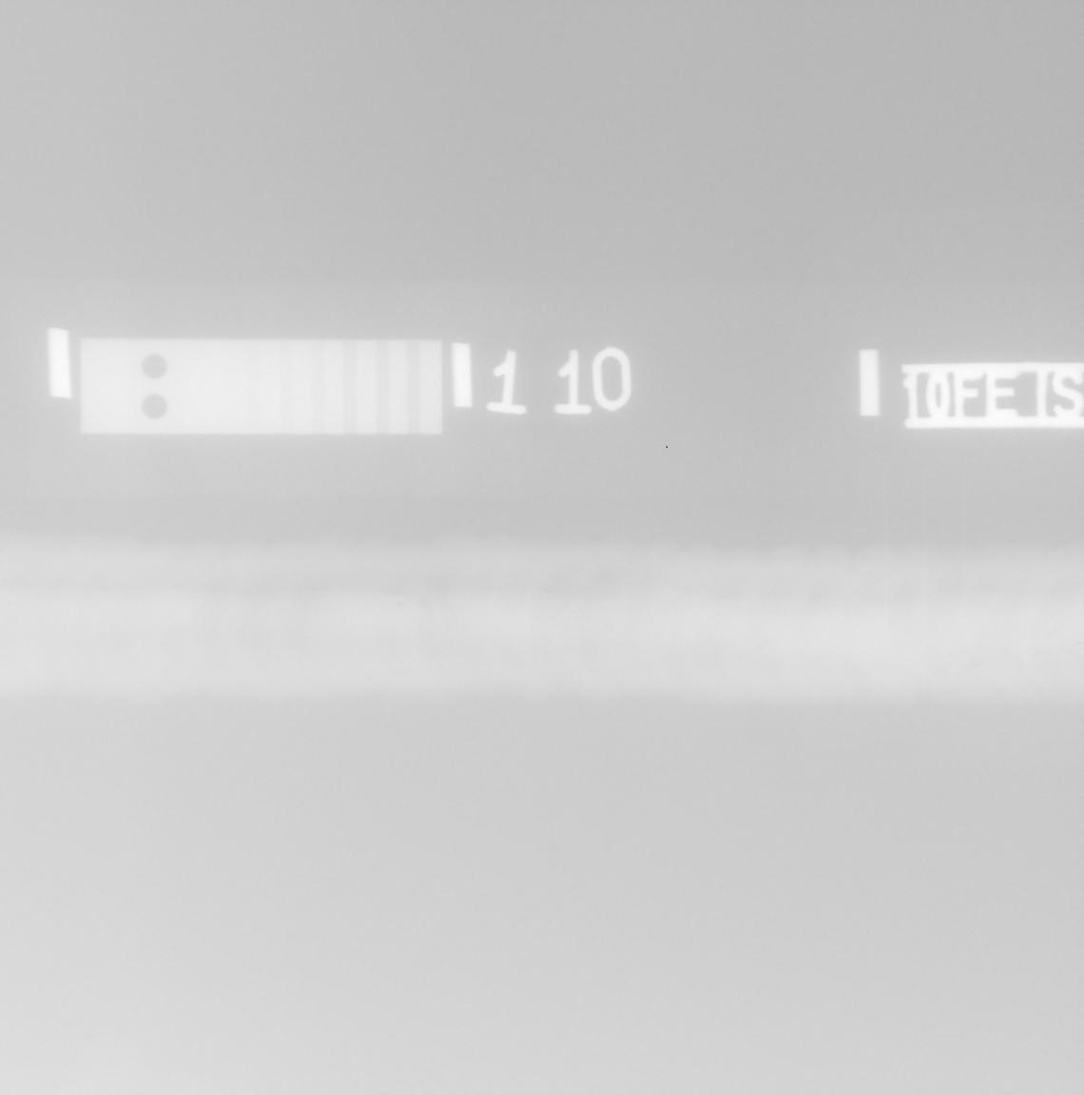Inclusion: (1046, 626, 1059, 639), (731, 606, 741, 609)
Pore/Porosity: (601, 567, 609, 581), (396, 600, 407, 608), (607, 623, 615, 630), (393, 587, 401, 594), (970, 661, 977, 668), (975, 640, 981, 646), (419, 596, 425, 602), (1079, 642, 1084, 646)
Reference Standard 2: (79, 339, 442, 435)
